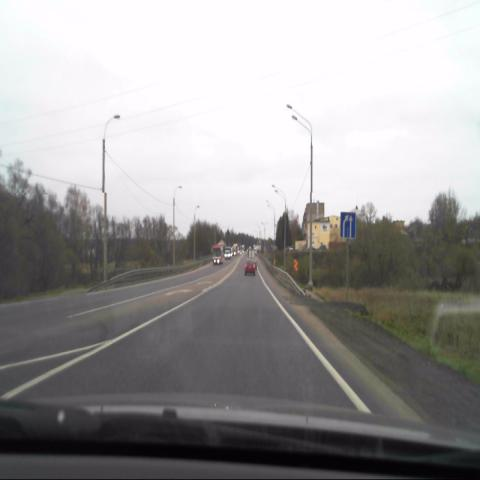5_15_5: (339, 209, 357, 241)
